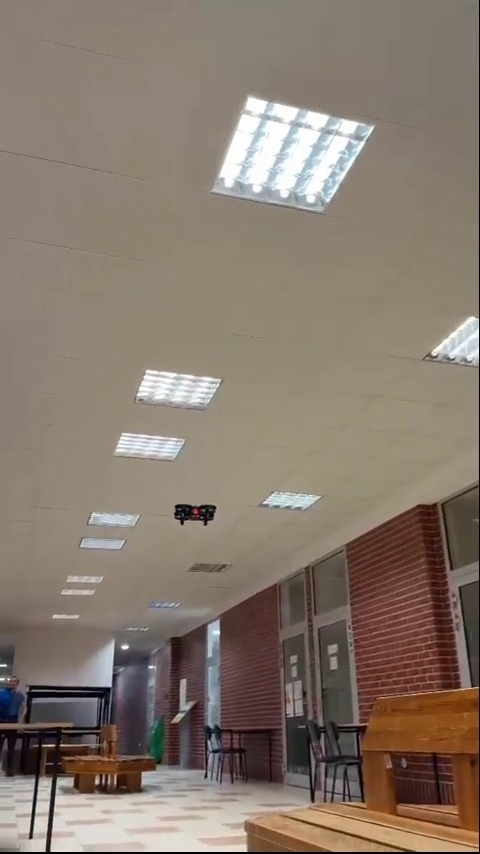drone: (175, 504, 222, 526)
no vest: (0, 670, 27, 720)
